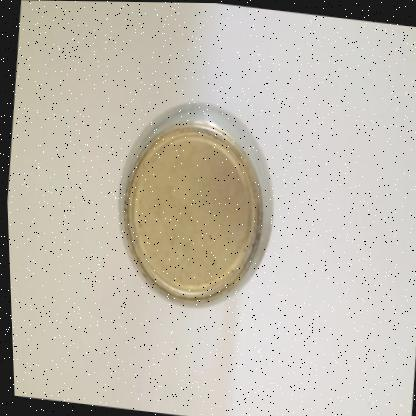Glass: (117, 102, 271, 304)
